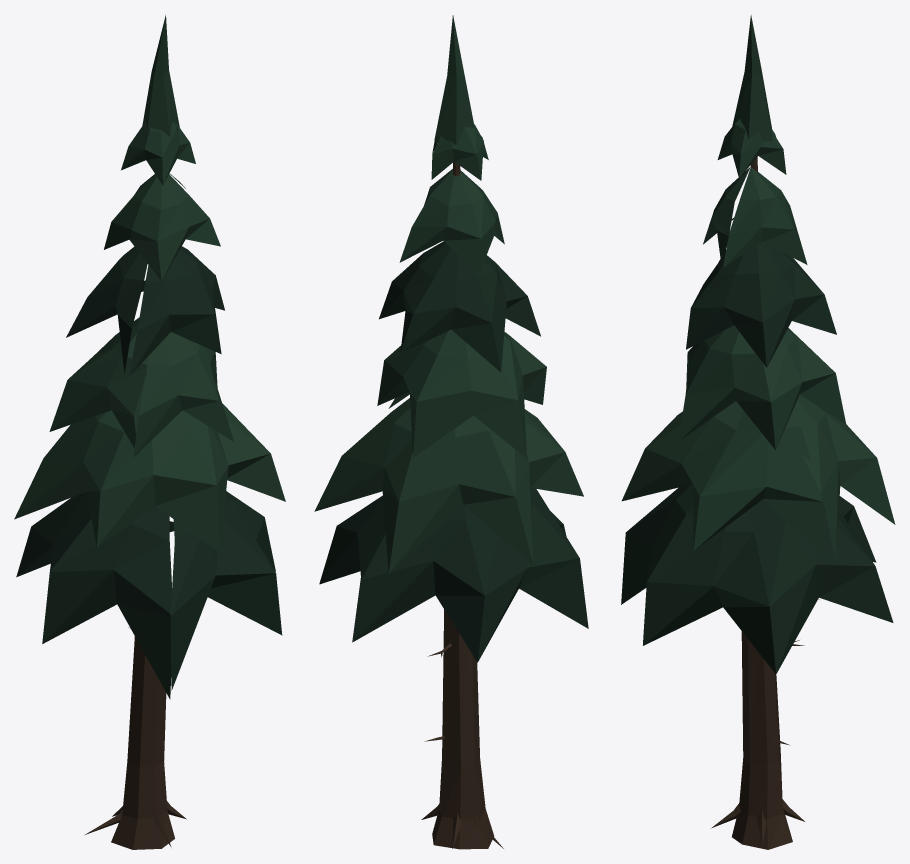
File: pine_tree_c.glb
3 renders of one model, left to right at view 1: azimuth 30°, elevation 25°; view 2: azimuth 150°, elevation 25°; view 3: azimuth 270°, elevation 25°, orthographic.
Parts seen in each view (by area): view 1: foliage_pine, foliage_dark, trunk; view 2: foliage_pine, foliage_dark, trunk; view 3: foliage_pine, foliage_dark, trunk.
Boxes of the visible parts, <box> form: foliage_pine: <box>14,15,285,552</box>; foliage_dark: <box>16,246,282,699</box>; trunk: <box>84,372,186,849</box>; foliage_pine: <box>314,15,583,573</box>; foliage_dark: <box>319,241,588,662</box>; trunk: <box>421,161,503,849</box>; foliage_pine: <box>622,15,895,562</box>; foliage_dark: <box>621,242,893,674</box>; trunk: <box>711,157,819,849</box>.
Size of the model in its own units: 4.56 by 14.22 by 4.32.
